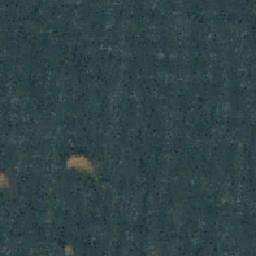debris: (64, 151, 97, 179), (60, 244, 82, 256)
